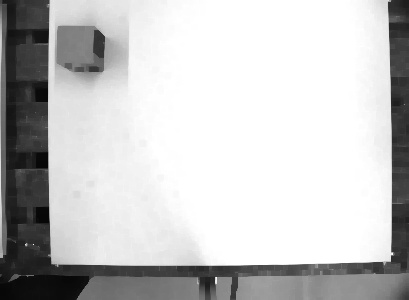b7: (54, 21, 107, 73)
